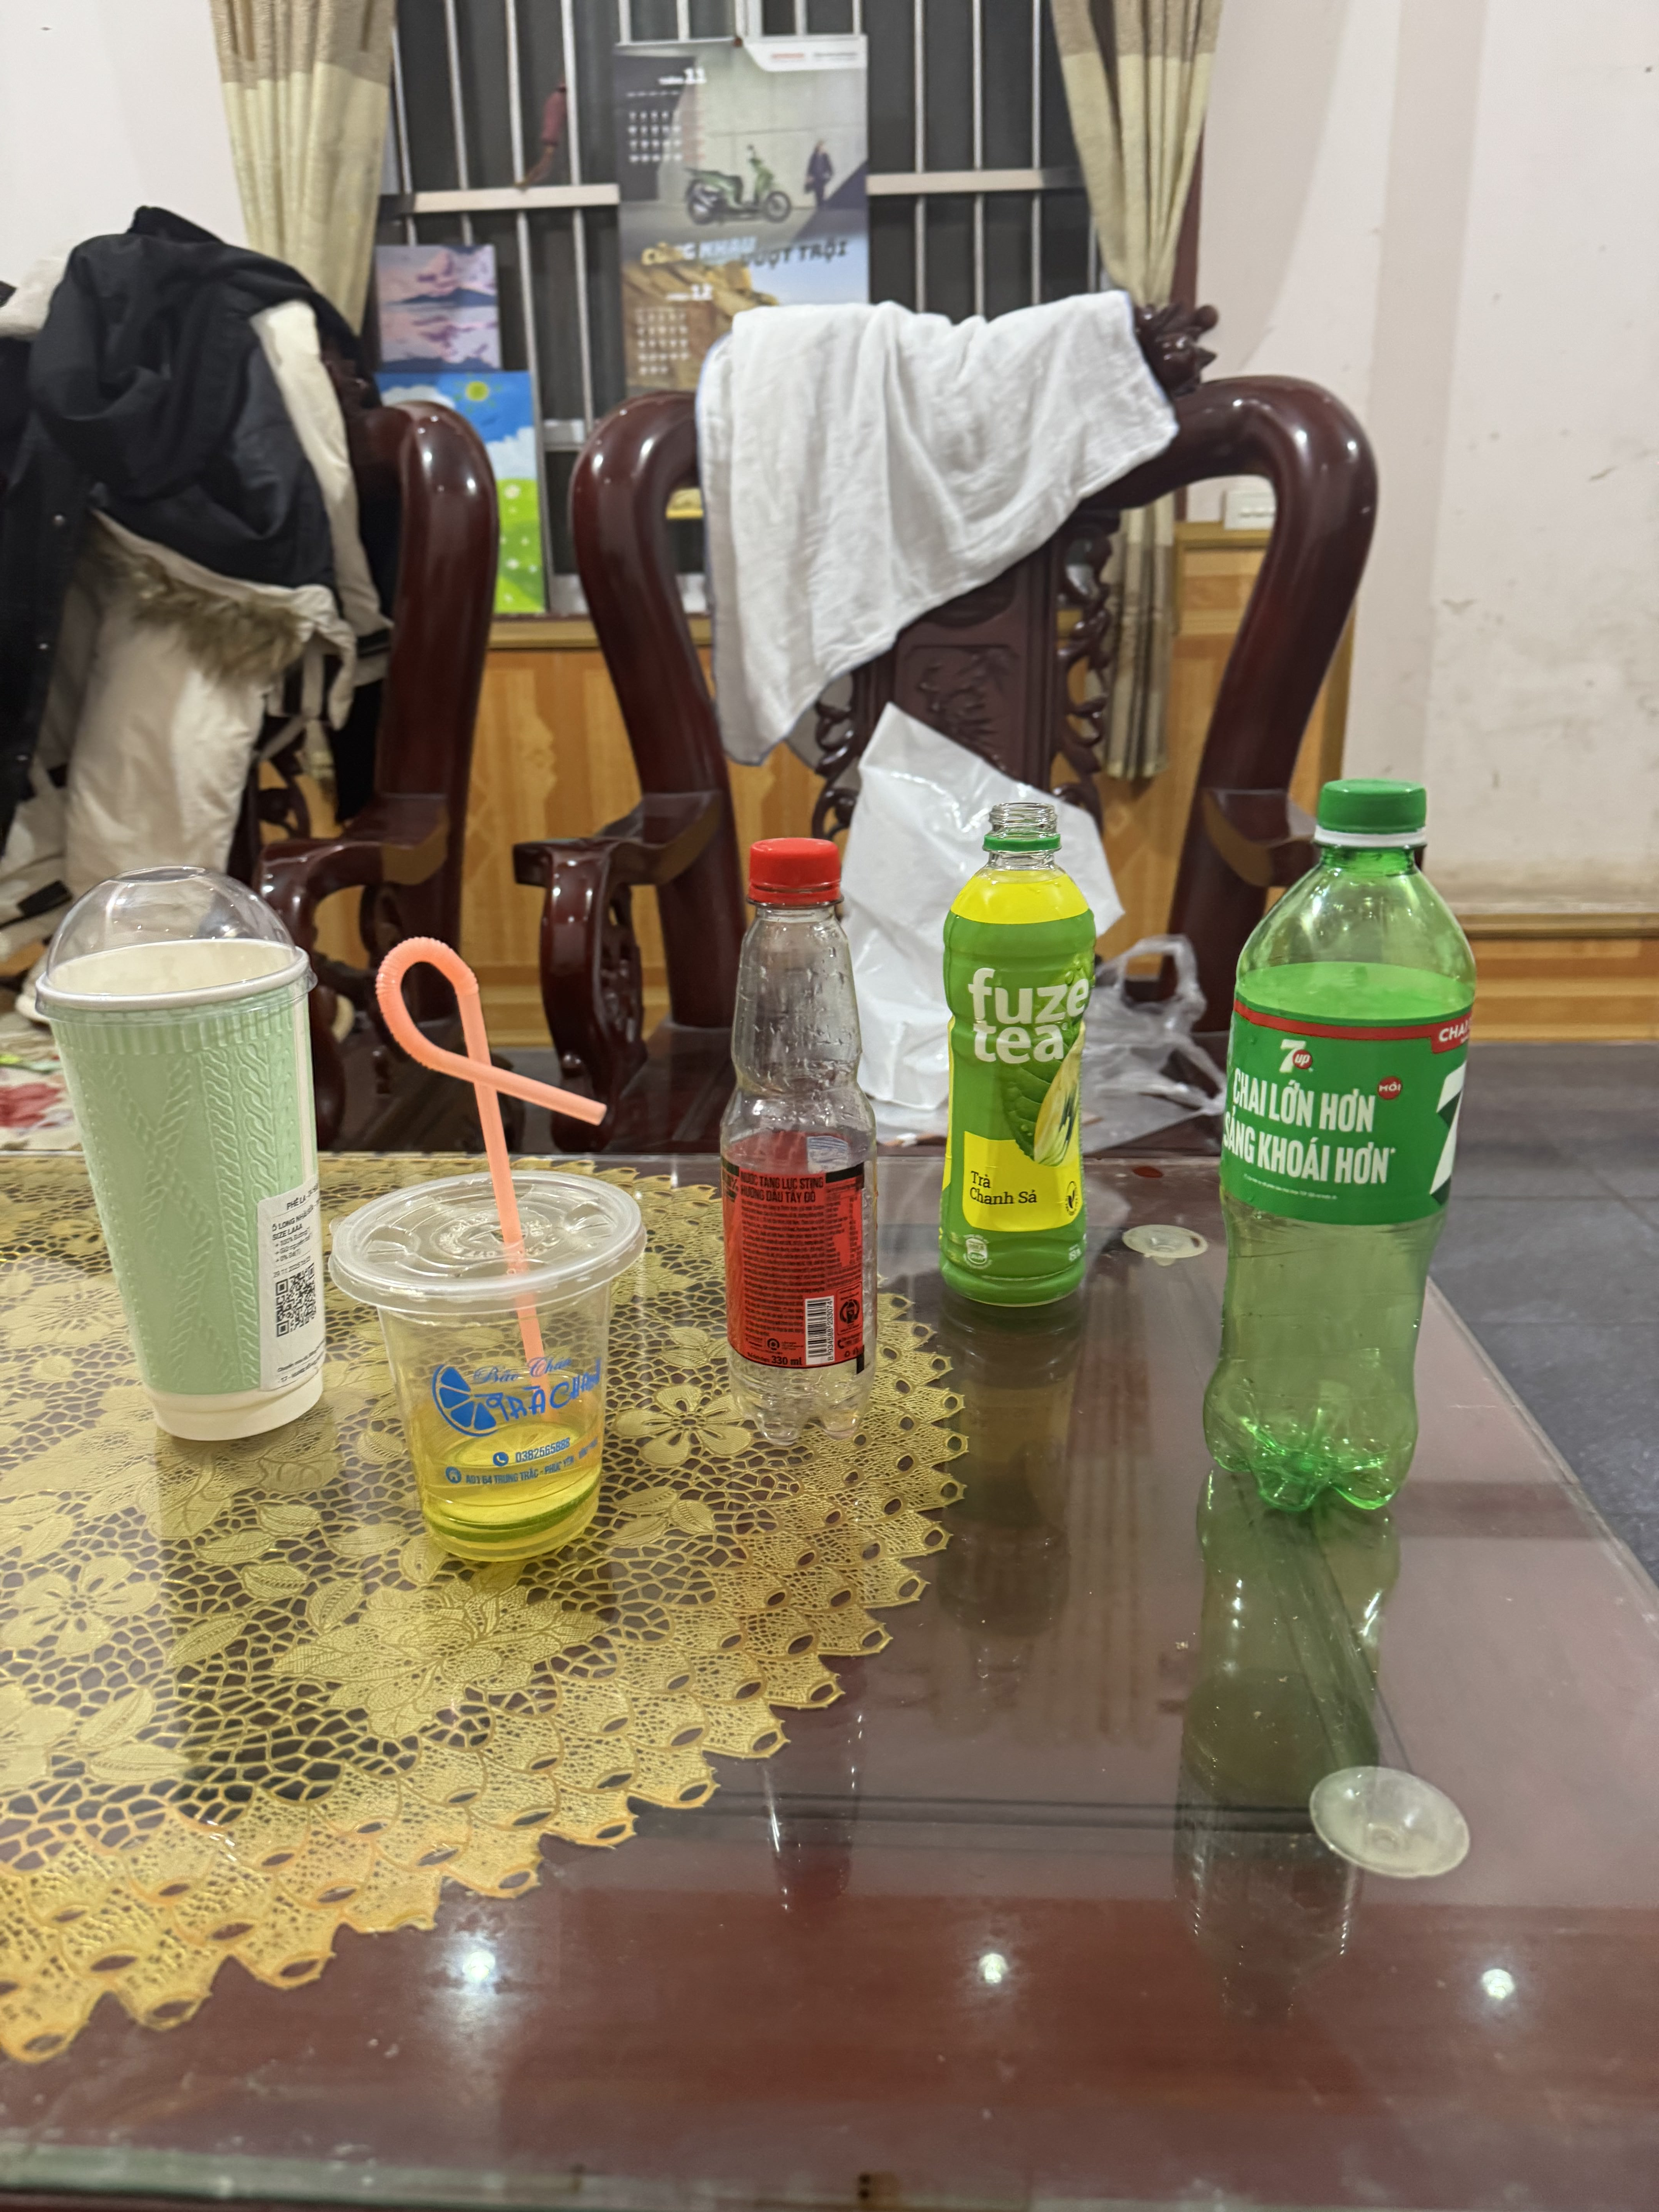bottle: (1157, 763, 1532, 1599), (673, 820, 915, 1496), (899, 779, 1152, 1345)
cup: (9, 838, 345, 1486), (286, 1151, 685, 1568)
